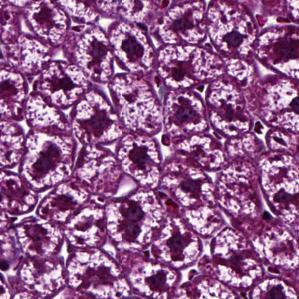inflammation: (67, 87, 124, 149), (162, 155, 213, 206)
